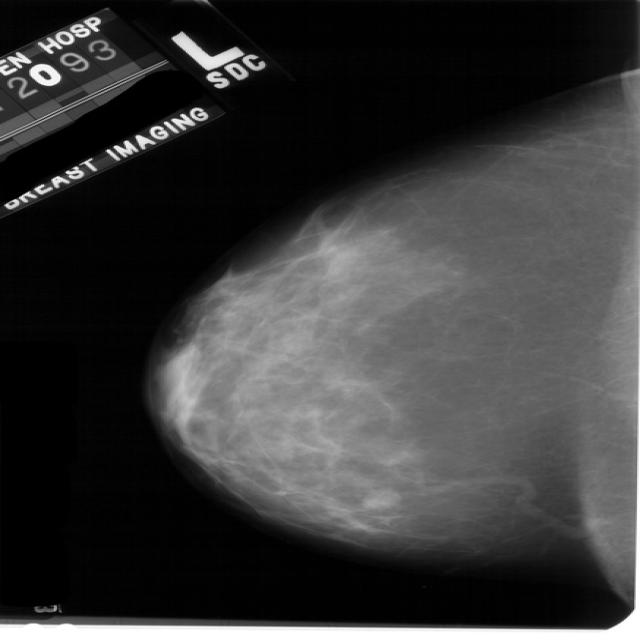tumour: (359, 488, 400, 510)
